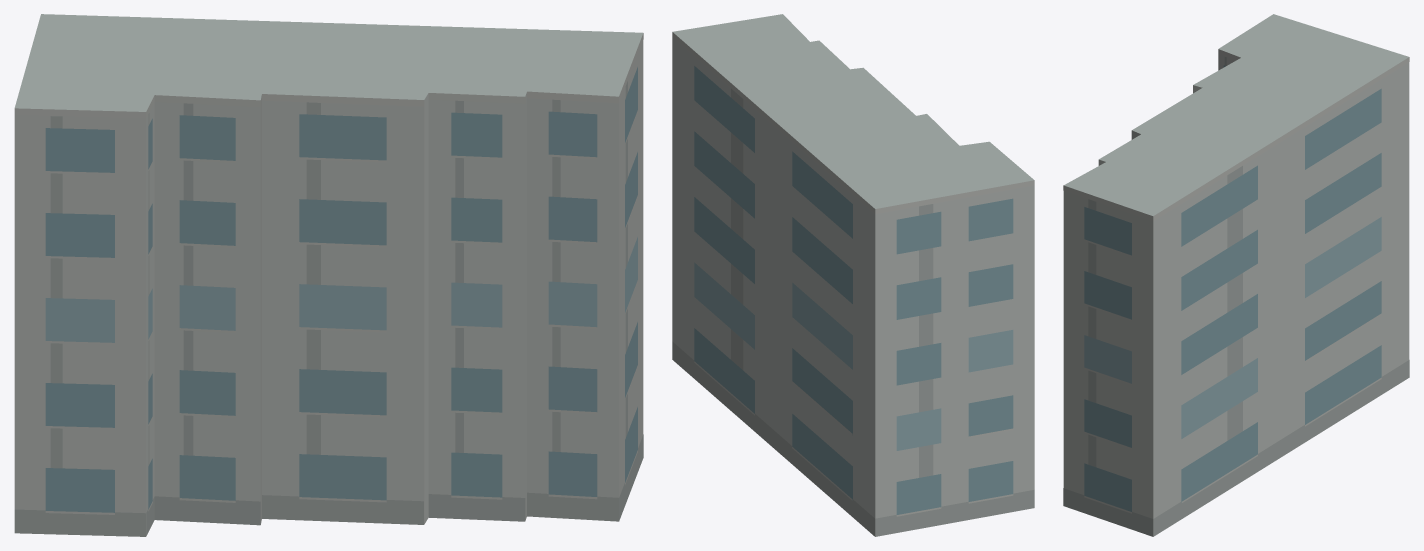
Rendered from residential-660cff1c-7f4a-46dc-8d32-297a14761214.glb.
3 renders of one model, left to right at view 1: azimuth 30°, elevation 25°; view 2: azimuth 150°, elevation 25°; view 3: azimuth 270°, elevation 25°, orthographic. The views are drawn at different scales.
Parts seen in each view (by area): view 1: residential-660cff1c-7f4a-46dc-8d32-297a14761214.tmp; view 2: residential-660cff1c-7f4a-46dc-8d32-297a14761214.tmp; view 3: residential-660cff1c-7f4a-46dc-8d32-297a14761214.tmp.
Boxes of the visible parts, left/top/right/bottom form: residential-660cff1c-7f4a-46dc-8d32-297a14761214.tmp: left=14, top=14, right=643, bottom=536; residential-660cff1c-7f4a-46dc-8d32-297a14761214.tmp: left=672, top=14, right=1034, bottom=536; residential-660cff1c-7f4a-46dc-8d32-297a14761214.tmp: left=1063, top=14, right=1409, bottom=536.
Bounding box in the file's own units: 20.64 × 15.25 × 14.92.
